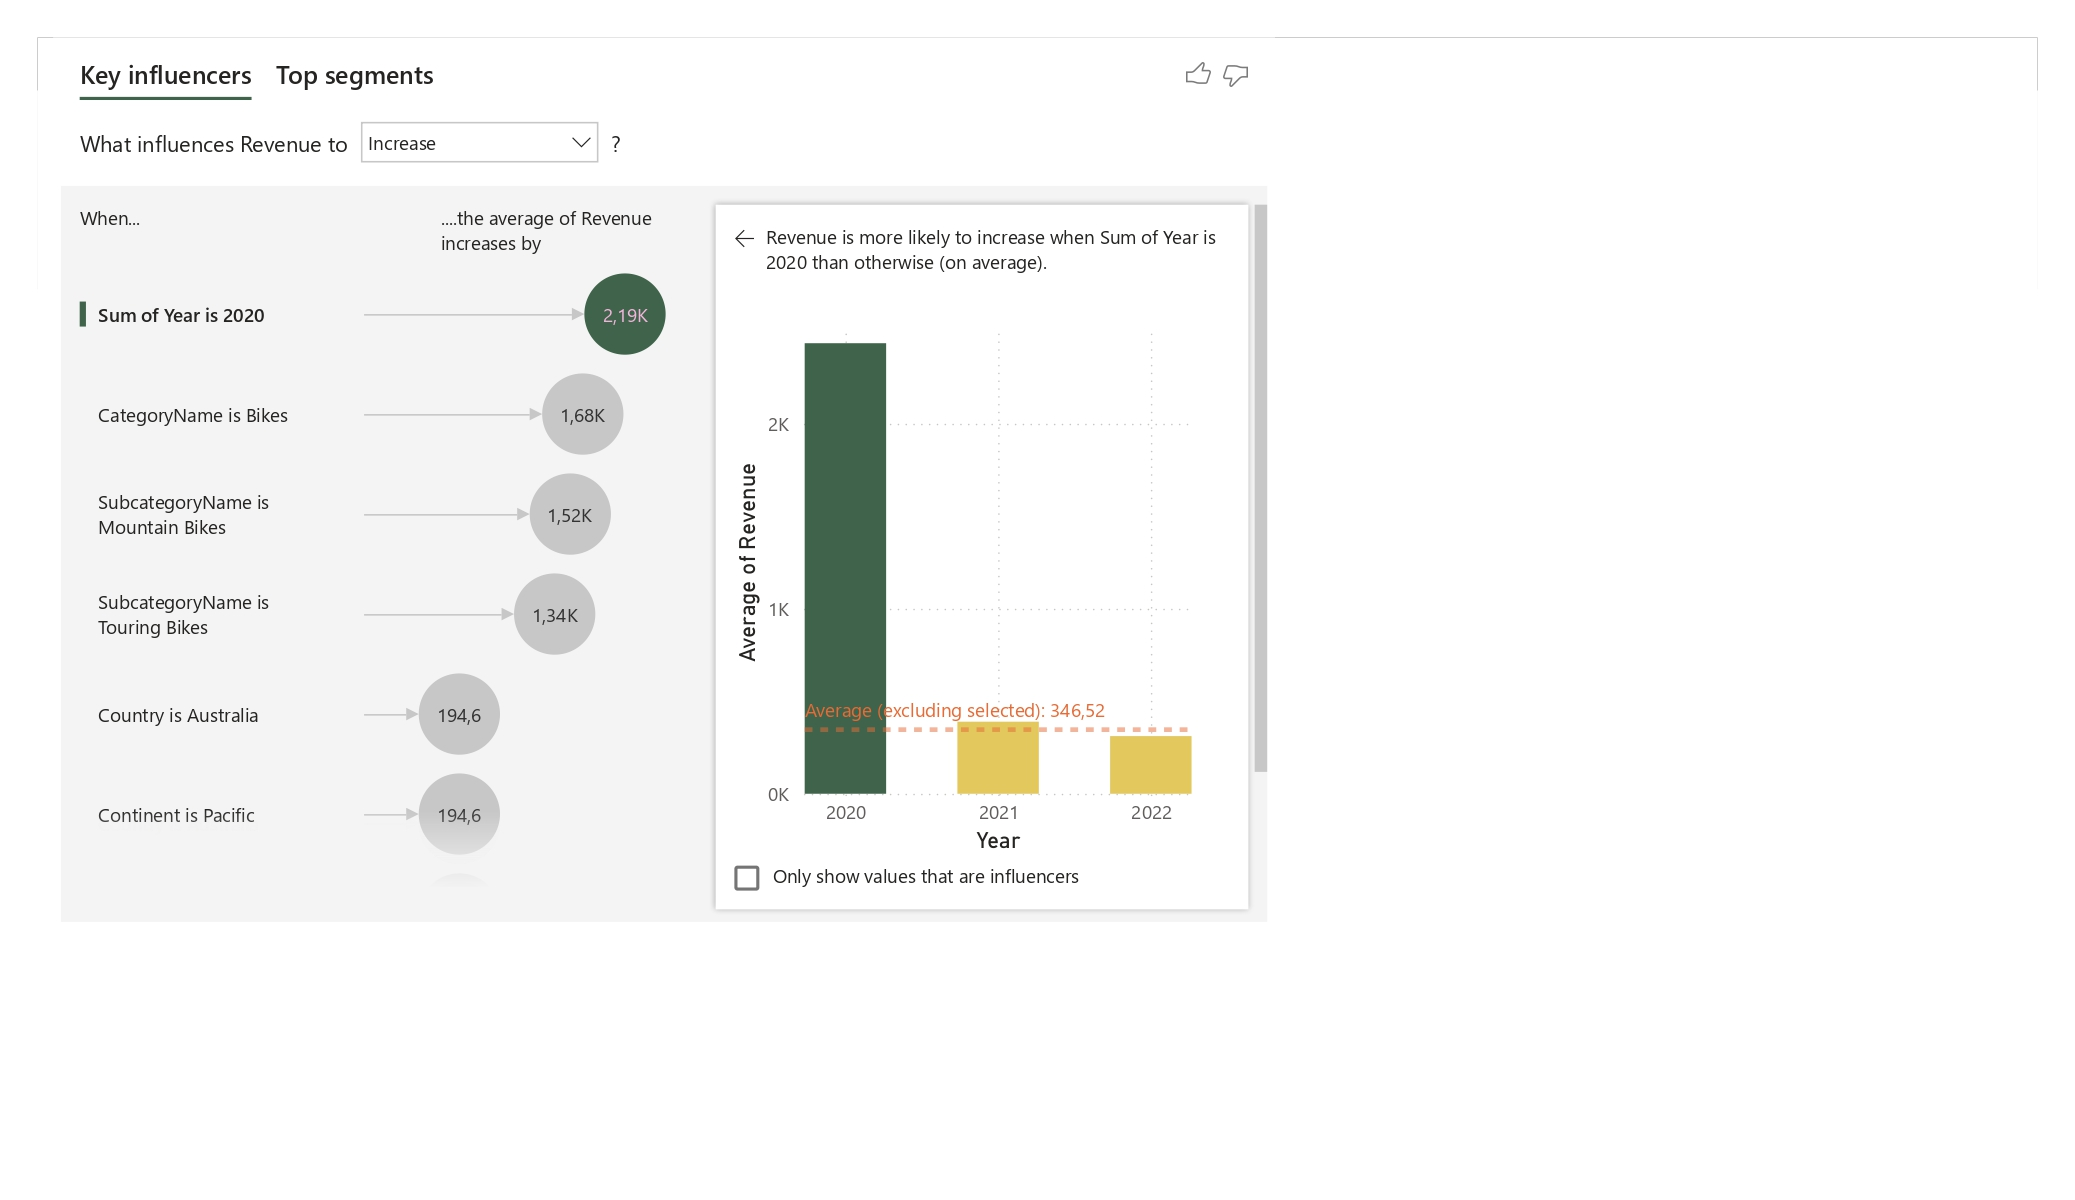

This screenshot's page, from the dashboard's own definition file:
{"tool":"powerbi","page":{"name":"Key Influencers","canvas":[1280,720],"ordinal":2},"visuals":[{"type":"keyDriversVisual","fields":{"Target":["Sales Data.Revenue"],"ExplainBy":["Product Categories Lookup.CategoryName","Customer Lookup.MaritalStatus","Sum(Calendar Lookup.Year)","Customer Lookup.Income Level","Territory Lookup.Country","Territory Lookup.Continent","Territory Lookup.Region","Product Subcategories Lookup.SubcategoryName"]},"box":[9.7,0,782,570.9],"z":0}]}

Visuals, with their boxes in screenshot pixels (x1, y1, x2, y2):
keyDriversVisual - Sales Data.Revenue x Product Categories Lookup.CategoryName: region(53, 38, 1275, 930)
